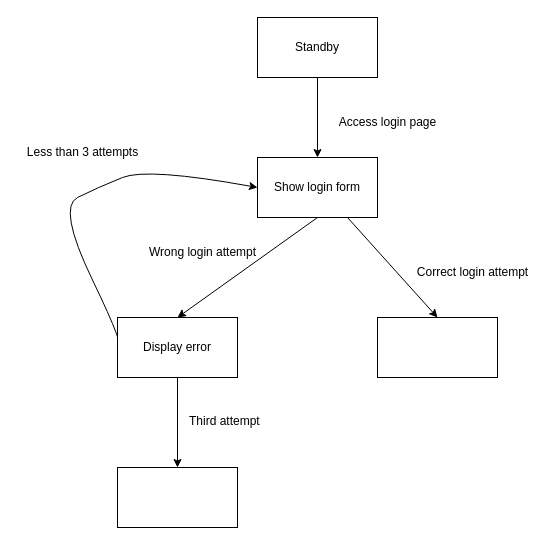
Image size: 554x545. Some labels were removed from this diagram. Here are the shapes that lost their labels. From the top down, the centre of each, then its label:
point (437, 347): Access to account
point (177, 497): Block account
